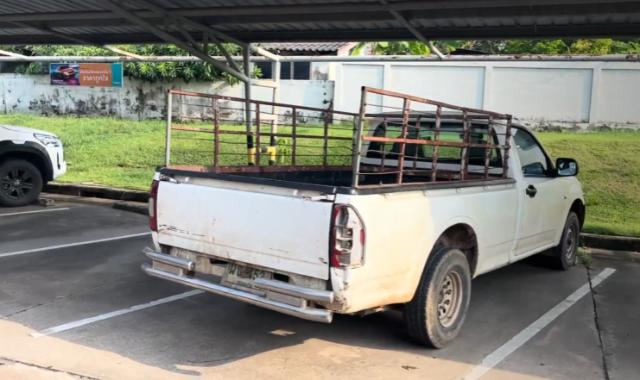pickup-truck: (147, 76, 587, 350)
